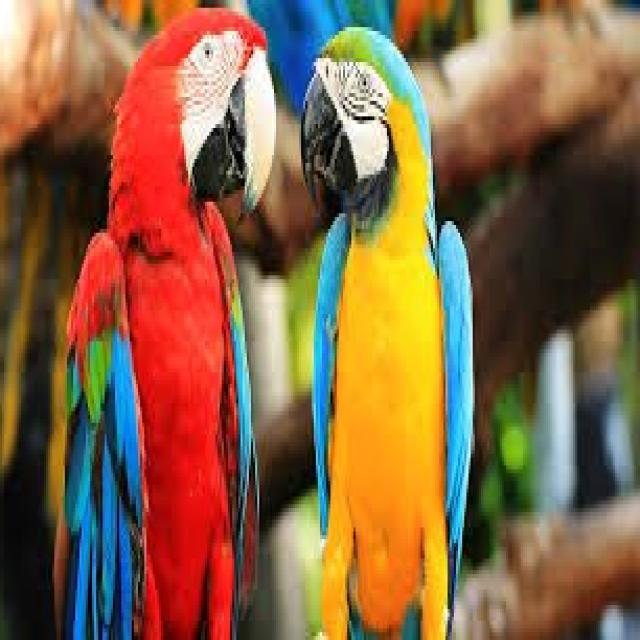parrot: (56, 8, 276, 636), (303, 27, 473, 636)
